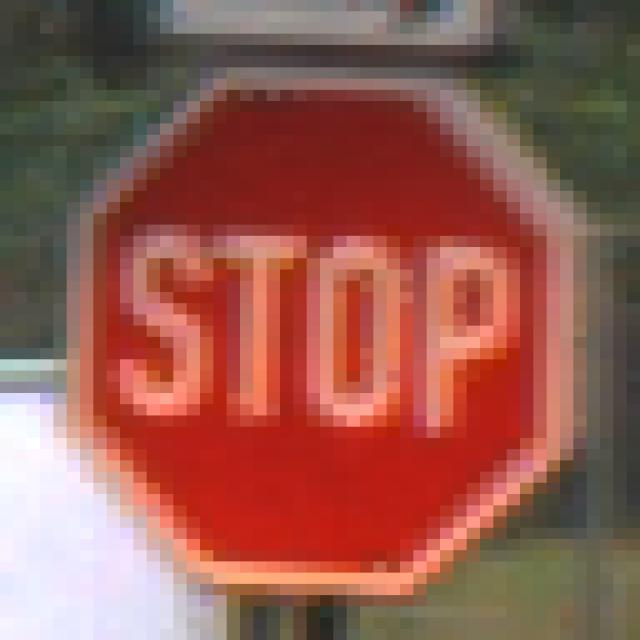STOP: (68, 68, 574, 585)
